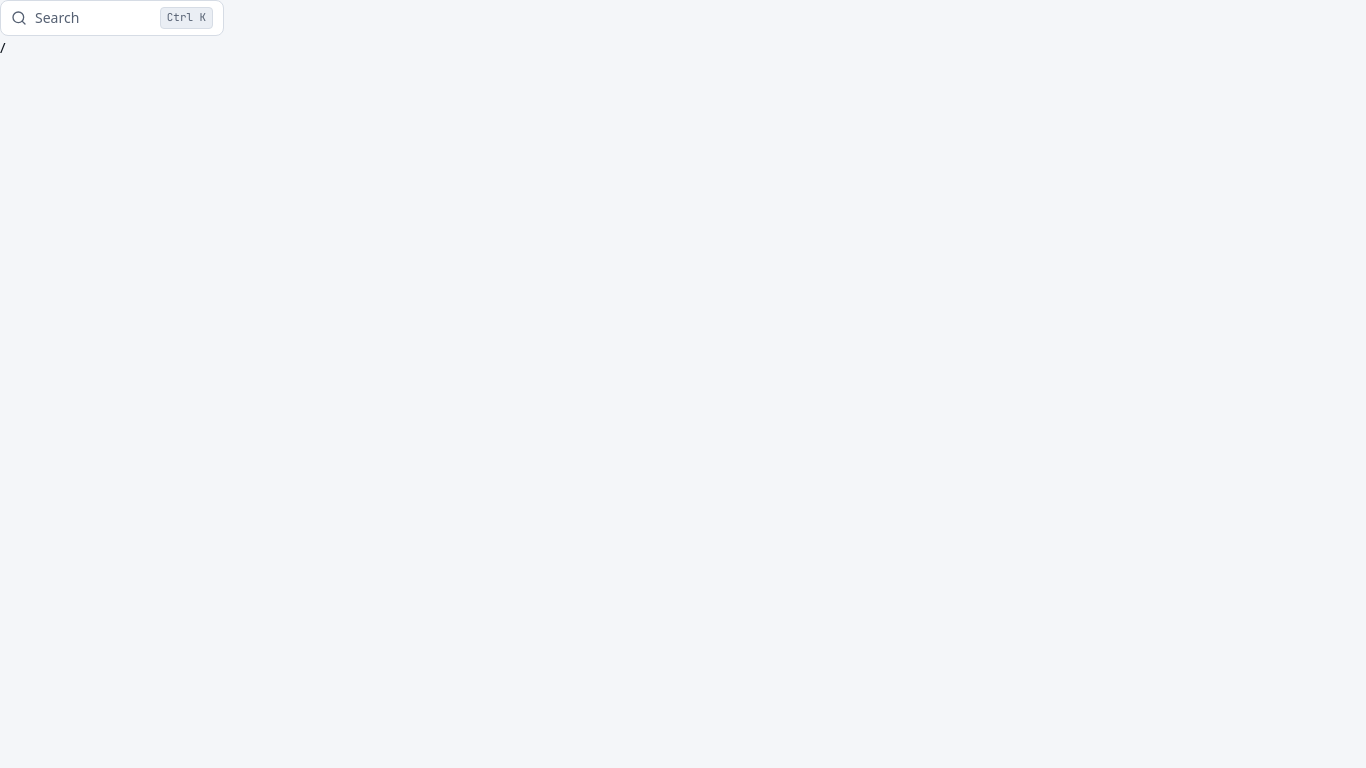
Test: CommandPalette › is closed until the search button is pressed
Click the button "Search Ctrl K". click: (112, 18)
box: x1=0 y1=0 x2=224 y2=36
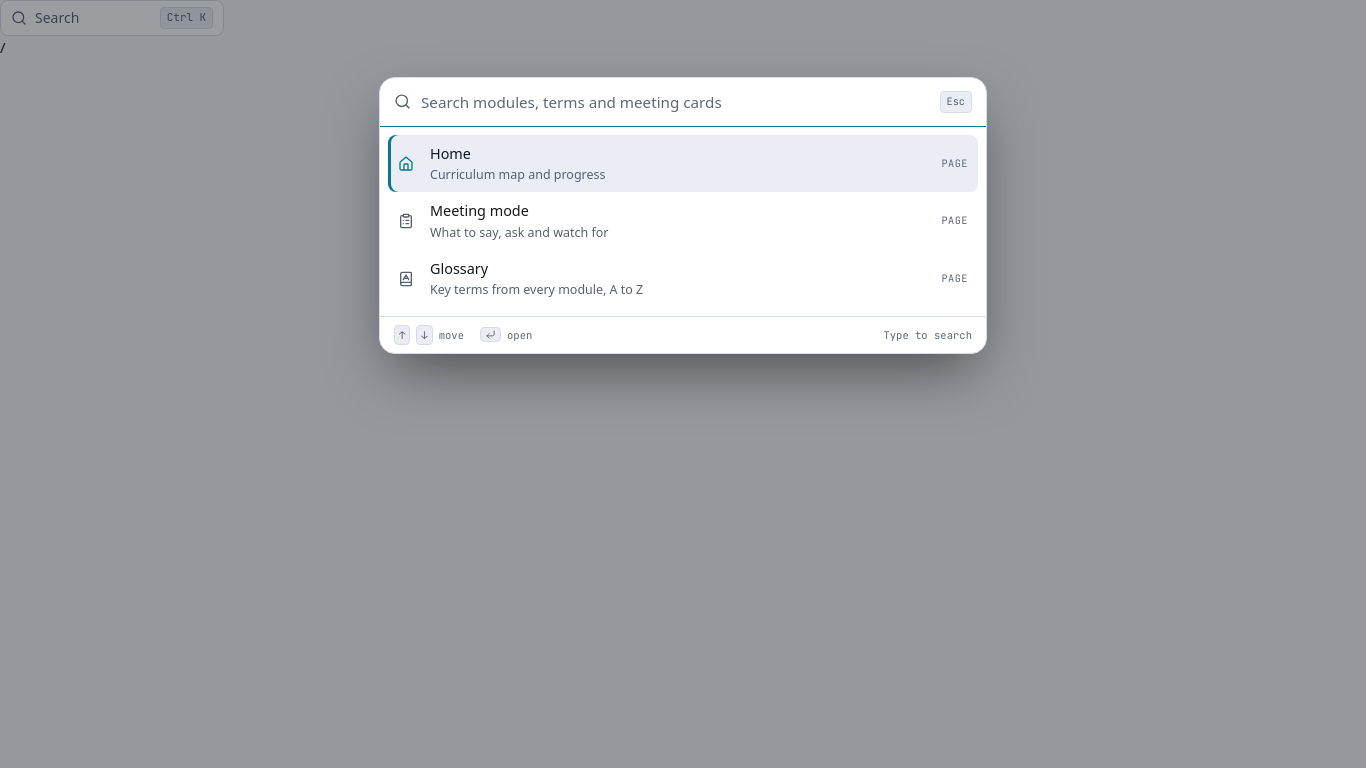
expect the dialog named "Search" is shown: met, box x1=379 y1=77 x2=987 y2=354
